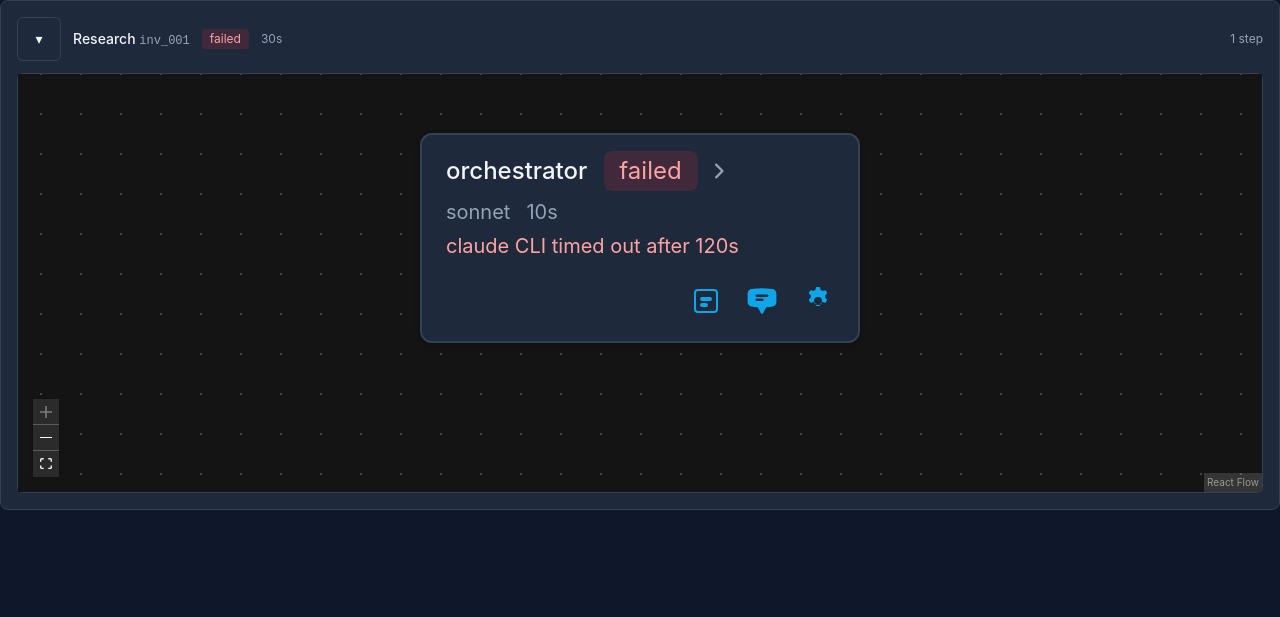
Test case: InvocationCard › renders inline node error + StreamPanel footer when a node failed
The width and height of the screenshot is (1280, 617).
Click the button with aria-label "Show activity of orchestrator" at (517, 170), box [422,135,858,268]
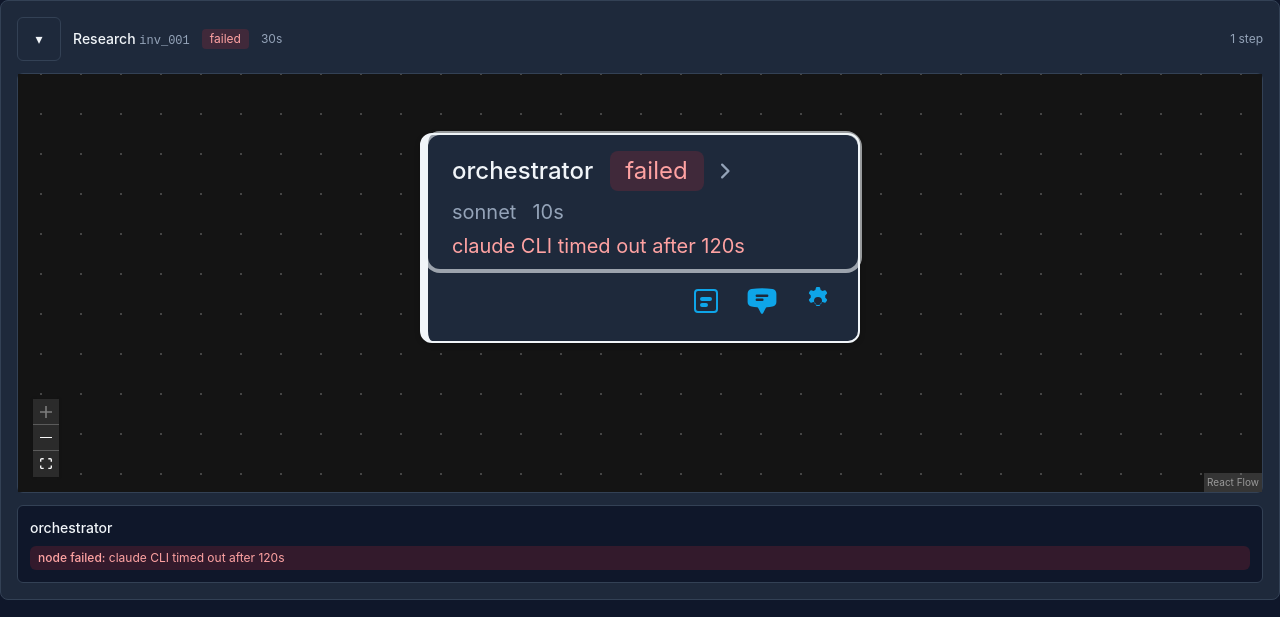
Now the footer with test id "stream-node-error" shows "claude CLI timed out after 120s", box [109,550,284,565]
